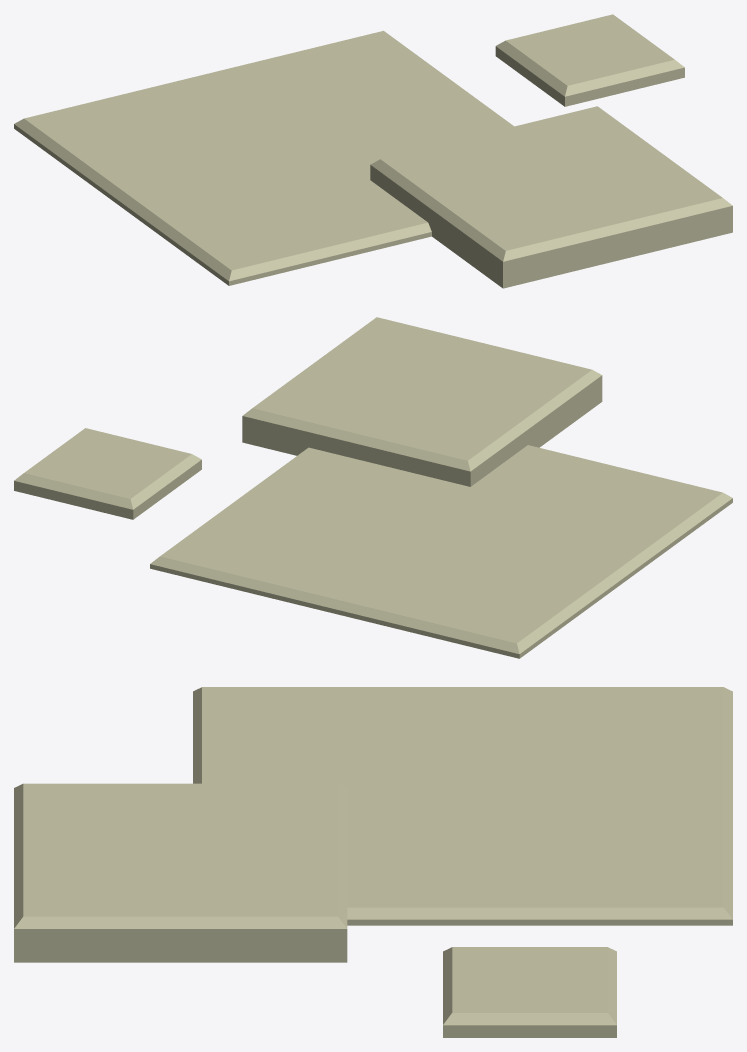
File: Path2.fbx
The picture shows the model from 3 angles, top to bottom: view 1: azimuth 30°, elevation 25°; view 2: azimuth 150°, elevation 25°; view 3: azimuth 270°, elevation 25°; orthographic projection. The views are drawn at different scales.
Visible parts, largest first — view 1: Path2; view 2: Path2; view 3: Path2.
Boxes of the visible parts, <box> form: Path2: <box>14,14,732,288</box>; Path2: <box>14,317,732,658</box>; Path2: <box>14,687,732,1037</box>.
Bounding box in the file's own units: 277 × 15.92 × 247.
